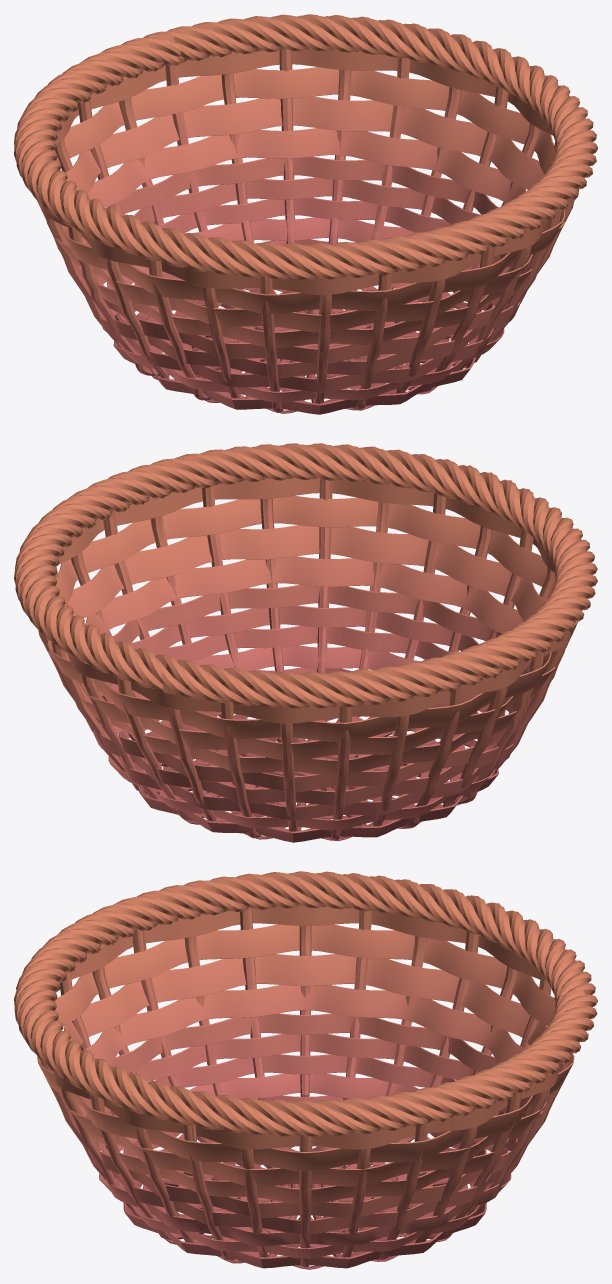
File: SM_Picnic_Basket_V02.fbx
3 views of the same model, one above another, from view 1: azimuth 30°, elevation 25°; view 2: azimuth 150°, elevation 25°; view 3: azimuth 270°, elevation 25° (orthographic).
Visible parts, largest first — view 1: SM_Picnic_Basket_V02; view 2: SM_Picnic_Basket_V02; view 3: SM_Picnic_Basket_V02.
Part boxes in pixels (x1,y1,x2,y2): SM_Picnic_Basket_V02: (14, 14, 597, 414); SM_Picnic_Basket_V02: (14, 443, 597, 842); SM_Picnic_Basket_V02: (14, 871, 597, 1269).
Bounding box in the file's own units: 60.46 × 24.43 × 60.47.
